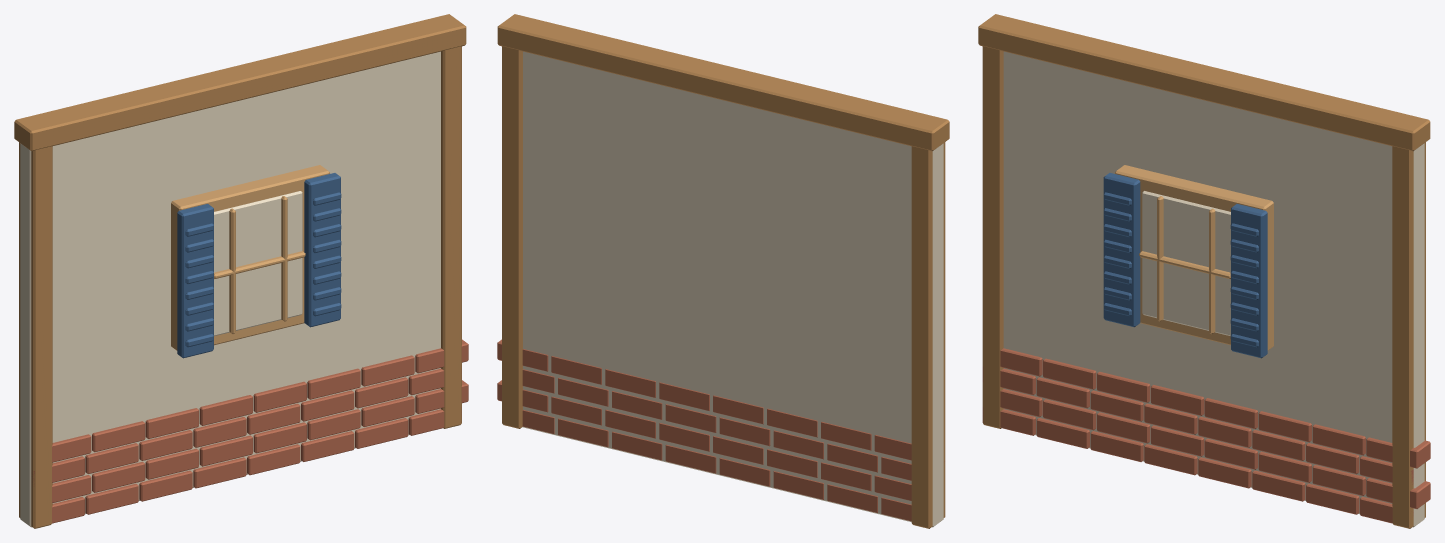
File: wall-window.glb
3 views of the same model, side by side, from view 1: azimuth 30°, elevation 25°; view 2: azimuth 150°, elevation 25°; view 3: azimuth 330°, elevation 25° (orthographic).
Visible parts, largest first — view 1: wall_window; view 2: wall_window; view 3: wall_window.
Part boxes in pixels (x1,y1,x2,y2): wall_window: [14, 14, 468, 528]; wall_window: [497, 14, 949, 528]; wall_window: [978, 14, 1430, 528].
Bounding box in the file's own units: 4.08 × 3.54 × 0.5275.
